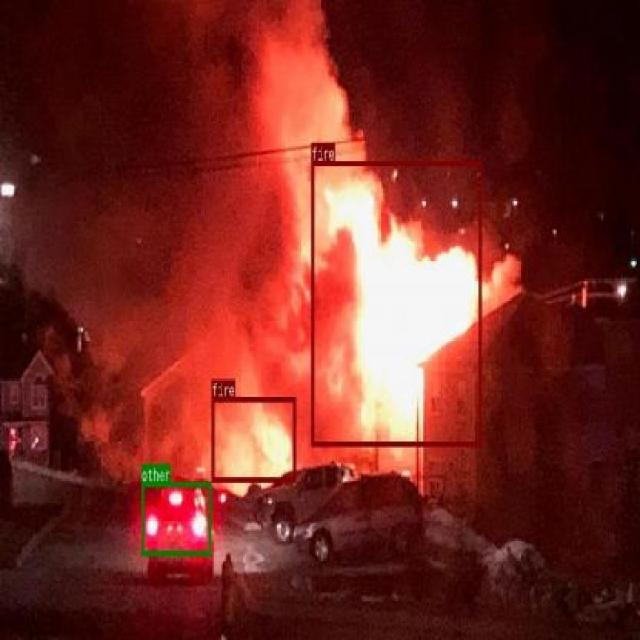Fire: (312, 160, 480, 446), (211, 396, 295, 482)
